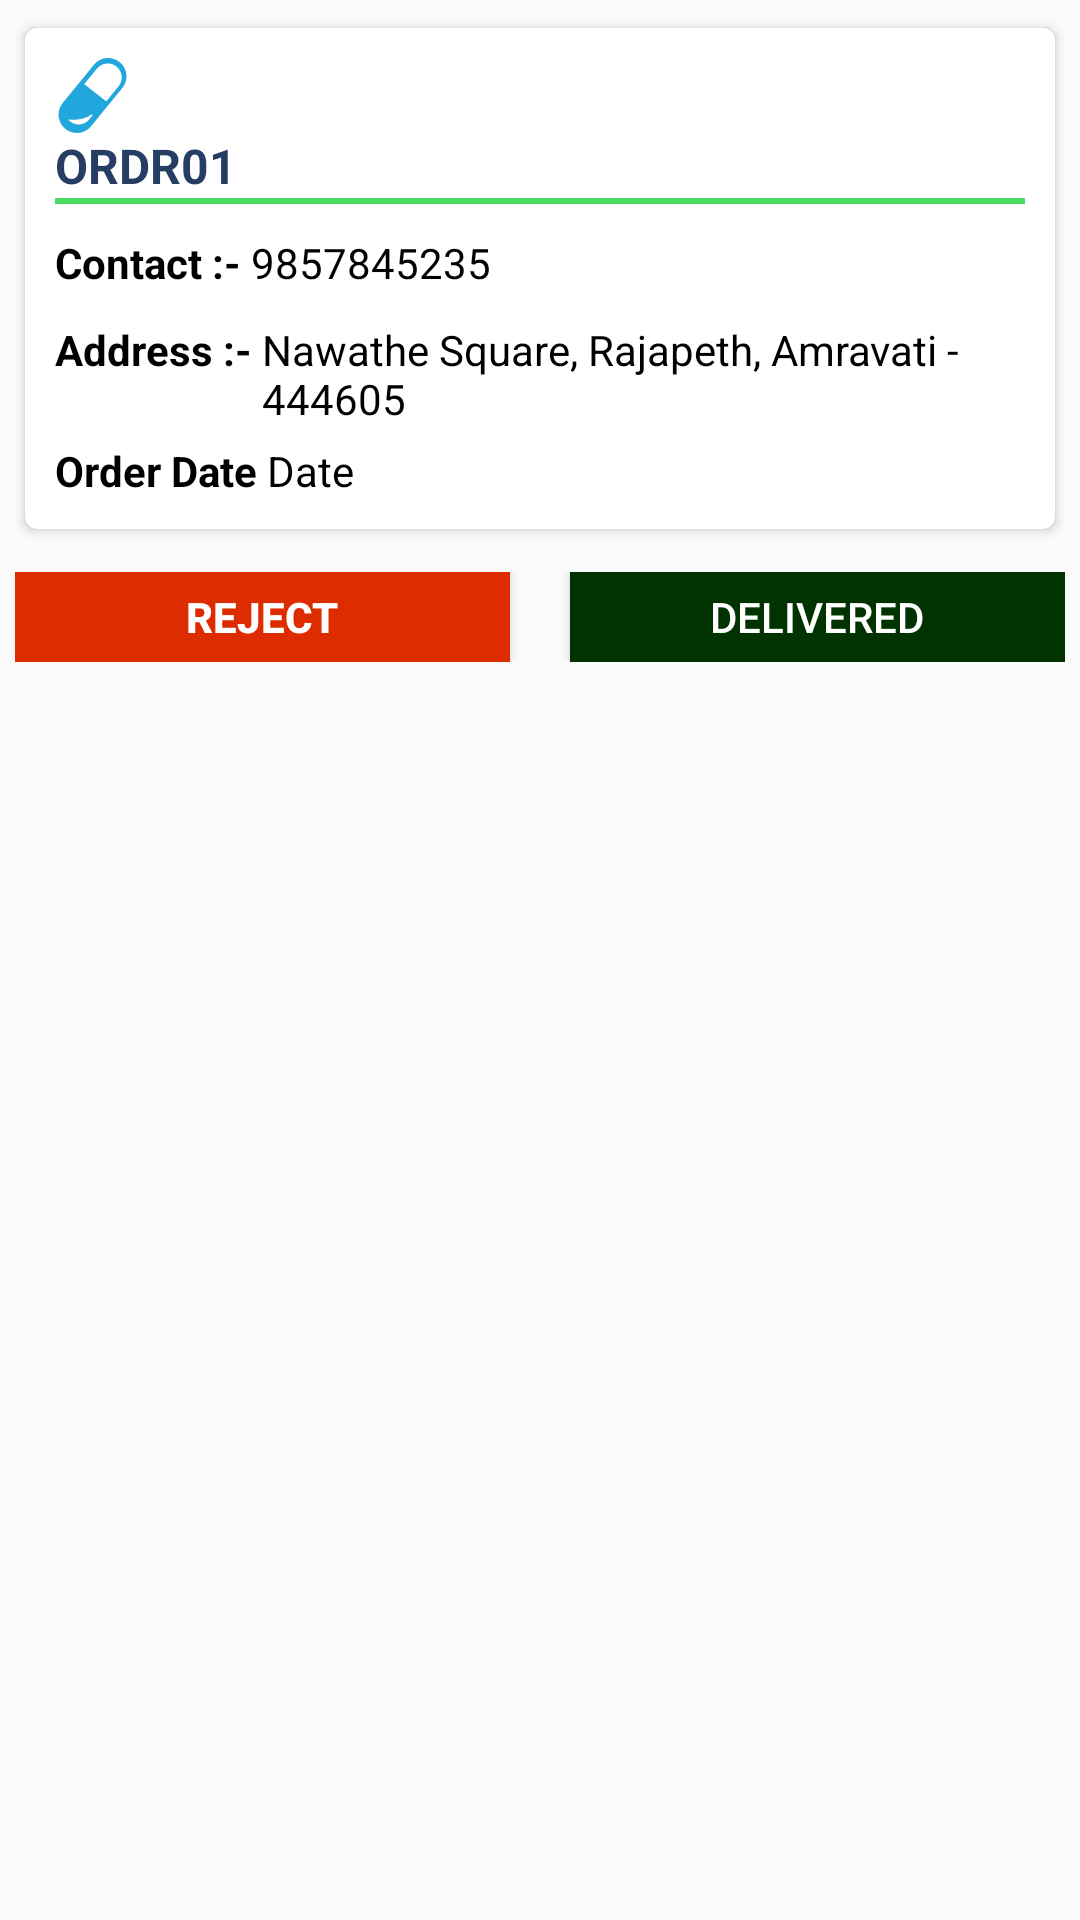

Screen size 1080px x 1920px. Icon name, then its center in pixels as [x,y]:
medicine: [92,95]
